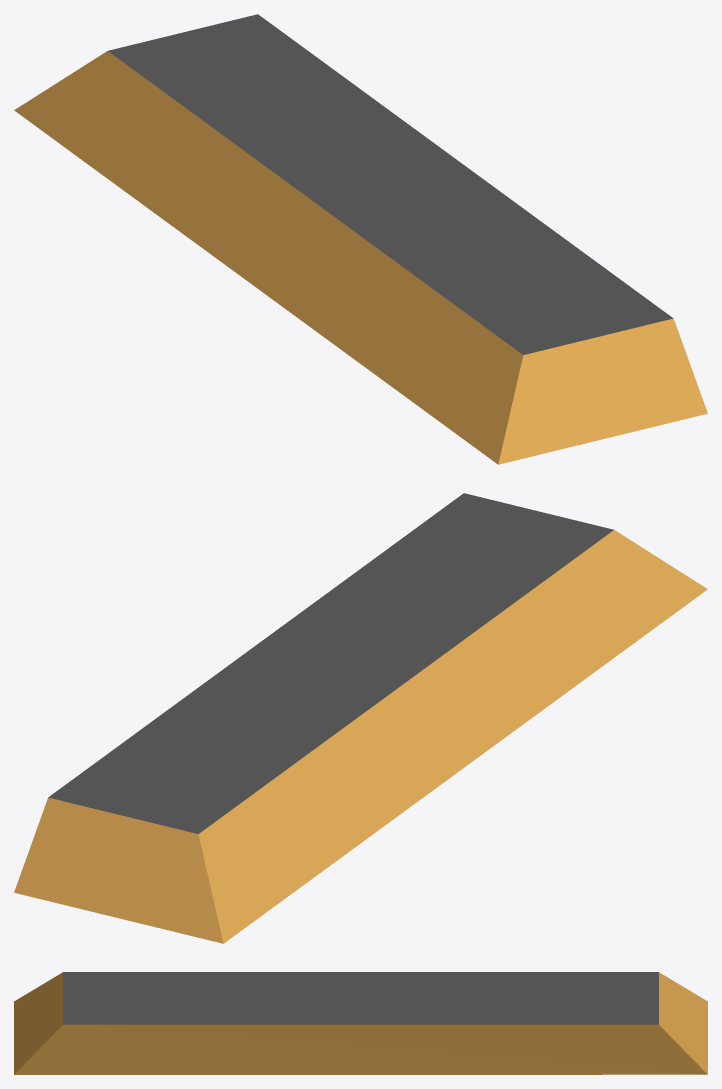
The model's file is Skate_Pill_Box_Half_Double_01.FBX.
3 views of the same model, one above another, from view 1: azimuth 30°, elevation 25°; view 2: azimuth 150°, elevation 25°; view 3: azimuth 270°, elevation 25° (orthographic). The views are drawn at different scales.
Visible parts, largest first — view 1: Skate_Pill_Box_Half_Double_01; view 2: Skate_Pill_Box_Half_Double_01; view 3: Skate_Pill_Box_Half_Double_01.
Boxes of the visible parts, bbox=[...] form: Skate_Pill_Box_Half_Double_01: bbox=[14, 14, 707, 464]; Skate_Pill_Box_Half_Double_01: bbox=[14, 493, 707, 943]; Skate_Pill_Box_Half_Double_01: bbox=[14, 972, 707, 1074].
Bounding box in the file's own units: 1.5 × 0.4789 × 6.
